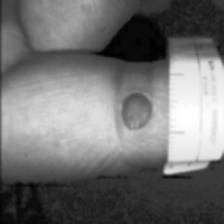Unclassified: (114, 86, 157, 138)
